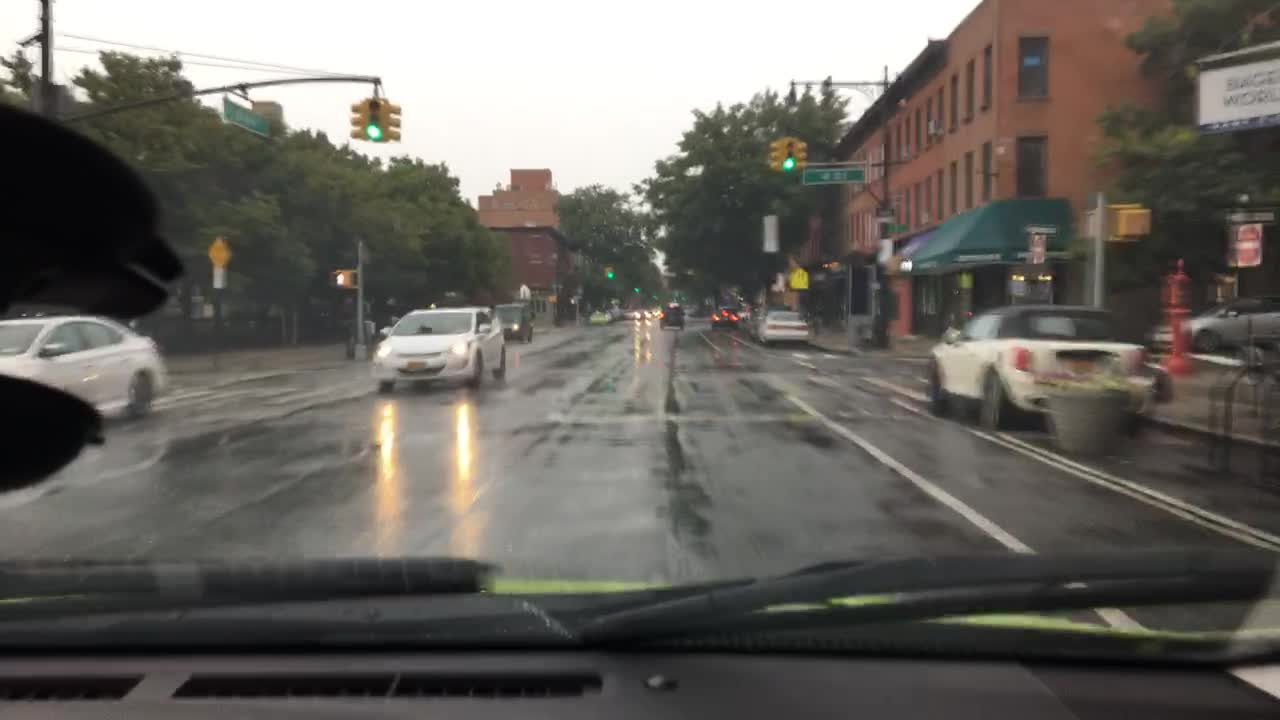car: (923, 300, 1174, 434), (0, 309, 177, 424), (367, 300, 509, 394), (1147, 292, 1278, 353), (756, 306, 812, 345), (492, 300, 538, 344), (706, 304, 743, 333), (656, 300, 686, 330), (746, 311, 769, 340), (586, 308, 612, 326), (607, 301, 628, 321), (631, 306, 653, 321), (737, 307, 757, 321), (645, 307, 666, 319), (622, 307, 643, 319), (604, 307, 619, 322)
traffic light: (1114, 203, 1154, 239), (361, 95, 387, 141), (779, 135, 799, 174), (385, 101, 402, 141), (329, 266, 355, 289), (764, 136, 781, 170), (349, 101, 364, 139), (798, 139, 810, 170), (546, 292, 560, 303), (605, 265, 615, 280), (632, 285, 643, 297)
traffic sign: (220, 93, 277, 142), (1224, 222, 1265, 270), (800, 165, 867, 187), (759, 211, 782, 252), (203, 236, 234, 265), (1028, 232, 1048, 265), (209, 262, 231, 291), (873, 236, 895, 265), (1022, 222, 1060, 238), (126, 53, 134, 126), (786, 266, 809, 289), (517, 280, 534, 303), (884, 220, 911, 234)
